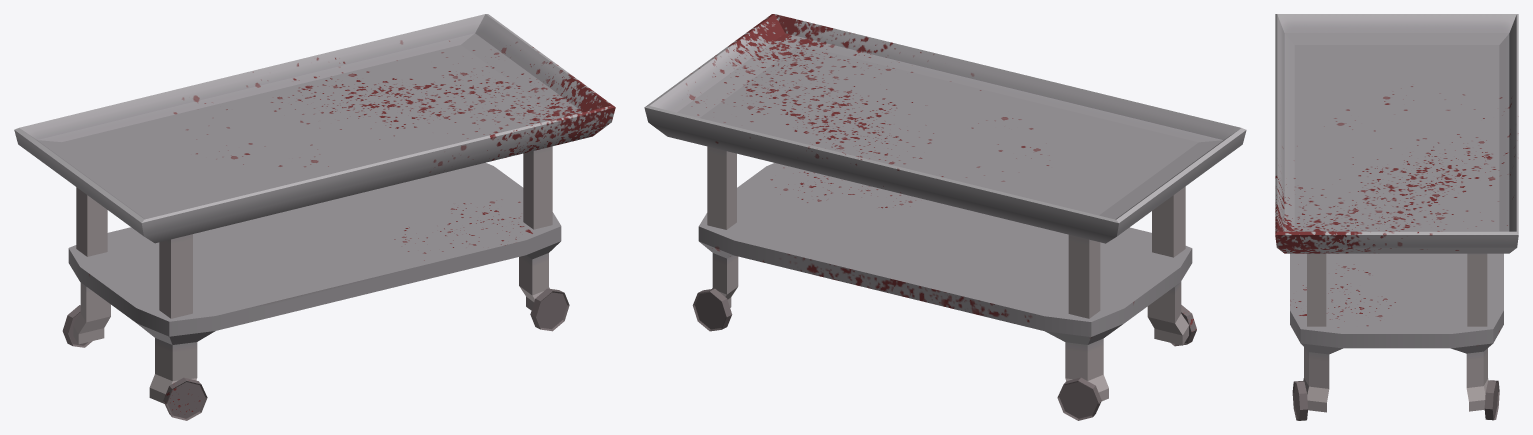
File: Digdig rullbord.fbx
The picture shows the model from 3 angles, left to right: view 1: azimuth 30°, elevation 25°; view 2: azimuth 150°, elevation 25°; view 3: azimuth 270°, elevation 25°; orthographic projection. The views are drawn at different scales.
Parts seen in each view (by area): view 1: pCylinder3; view 2: pCylinder3; view 3: pCylinder3.
Part boxes in pixels (<box>): pCylinder3: <box>14,14,615,420</box>; pCylinder3: <box>644,14,1246,420</box>; pCylinder3: <box>1275,14,1518,420</box>.
Bounding box in the file's own units: 6.22 × 2.77 × 2.9.
